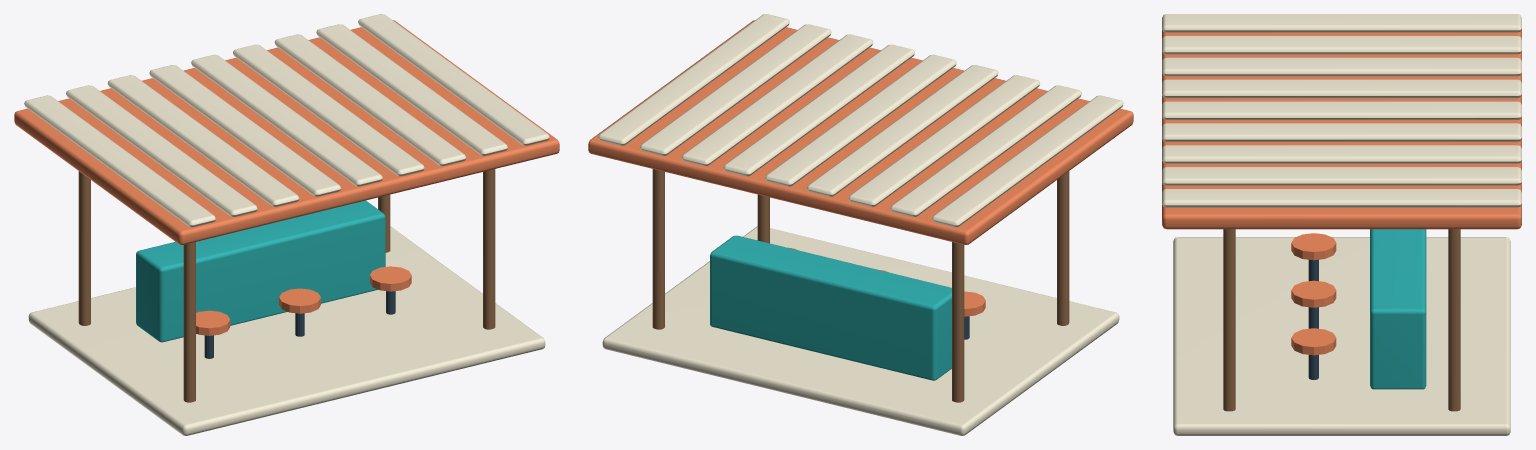
The model's file is pavilion.glb.
3 views of the same model, side by side, from view 1: azimuth 30°, elevation 25°; view 2: azimuth 150°, elevation 25°; view 3: azimuth 270°, elevation 25° (orthographic). The views are drawn at different scales.
Visible parts, largest first — view 1: Floating terrazzo plinth, Roof fascia, Counter, Roof slat.004, Roof slat, Roof slat.003, Roof slat.005, Roof slat.006, Roof slat.007, Roof slat.008, Roof slat.001, Roof slat.002 (+6 smaller); view 2: Floating terrazzo plinth, Roof fascia, Counter, Roof slat.004, Roof slat, Roof slat.003, Roof slat.005, Roof slat.006, Roof slat.007, Roof slat.008, Roof slat.001, Roof slat.002 (+4 smaller); view 3: Floating terrazzo plinth, Roof fascia, Counter, Roof slat.003, Roof slat.002, Roof slat.006, Roof slat, Roof slat.001, Roof slat.004, Roof slat.005, Roof slat.007, Roof slat.008 (+5 smaller).
Part boxes in pixels (<box>): Floating terrazzo plinth: <box>28,226,545,435</box>; Roof fascia: <box>14,20,559,244</box>; Counter: <box>136,200,385,342</box>; Roof slat.004: <box>191,54,382,186</box>; Roof slat: <box>24,95,215,227</box>; Roof slat.003: <box>149,65,340,196</box>; Roof slat.005: <box>233,44,424,176</box>; Roof slat.006: <box>274,34,465,166</box>; Roof slat.007: <box>316,24,507,155</box>; Roof slat.008: <box>358,14,549,145</box>; Roof slat.001: <box>66,85,257,216</box>; Roof slat.002: <box>107,75,299,206</box>; Floating terrazzo plinth: <box>602,226,1119,435</box>; Roof fascia: <box>588,20,1133,244</box>; Counter: <box>710,235,951,380</box>; Roof slat.004: <box>765,54,956,186</box>; Roof slat: <box>932,95,1123,227</box>; Roof slat.003: <box>807,65,998,196</box>; Roof slat.005: <box>723,44,914,176</box>; Roof slat.006: <box>682,34,873,166</box>; Roof slat.007: <box>640,24,831,155</box>; Roof slat.008: <box>598,14,789,145</box>; Roof slat.001: <box>890,85,1081,216</box>; Roof slat.002: <box>848,75,1040,206</box>; Floating terrazzo plinth: <box>1173,237,1510,435</box>; Roof fascia: <box>1162,29,1521,229</box>; Counter: <box>1370,229,1426,389</box>; Roof slat.003: <box>1162,79,1521,98</box>; Roof slat.002: <box>1162,57,1521,76</box>; Roof slat.006: <box>1162,145,1521,163</box>; Roof slat: <box>1162,14,1521,32</box>; Roof slat.001: <box>1162,36,1521,54</box>; Roof slat.004: <box>1162,101,1521,119</box>; Roof slat.005: <box>1162,123,1521,141</box>; Roof slat.007: <box>1162,167,1521,185</box>; Roof slat.008: <box>1162,189,1521,207</box>.
Bounding box in the file's own units: 8.4 × 4.63 × 6.4.
